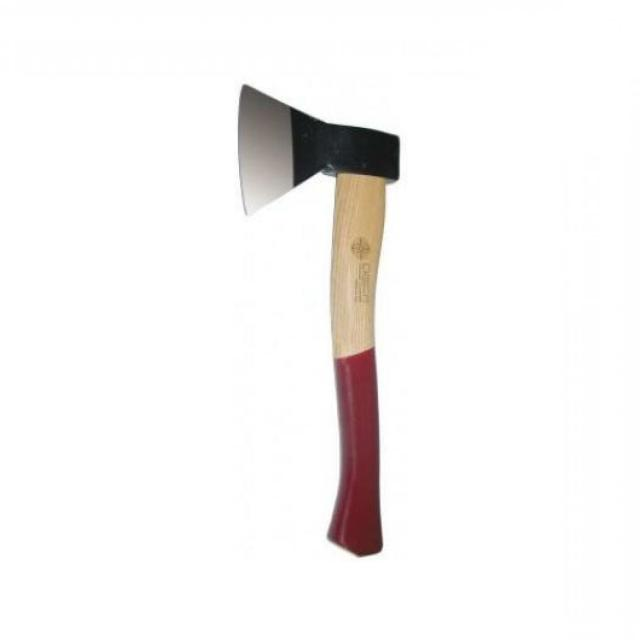Kapak: (225, 84, 407, 556)
